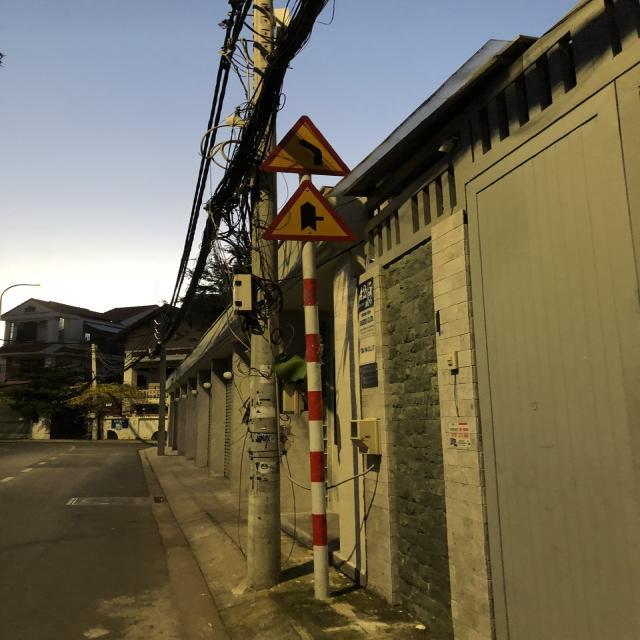Bien bao cho ngoat nguy hiem: (259, 109, 363, 181)
Bien bao giao nhau voi duong khong uu tien: (258, 177, 363, 246)
